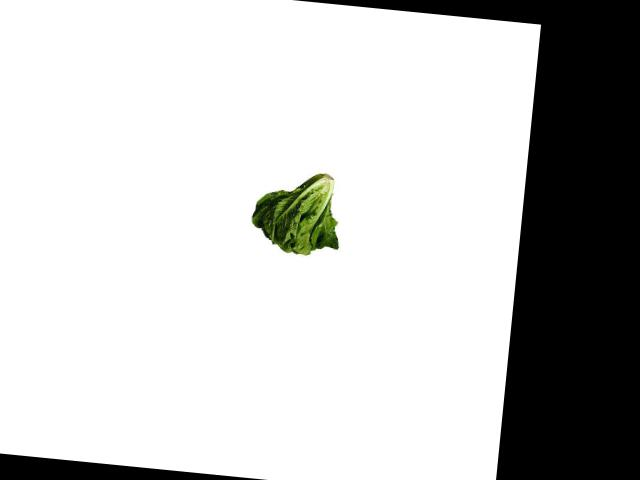lettuce: (247, 162, 348, 261)
